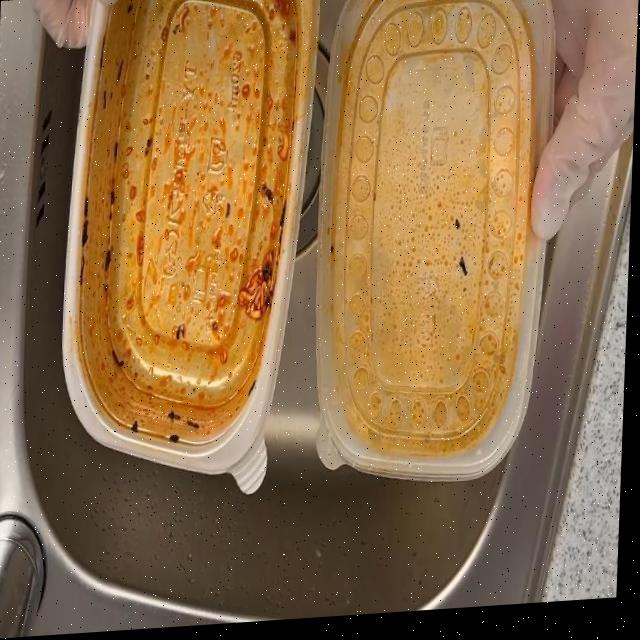disposable: (41, 0, 336, 533)
